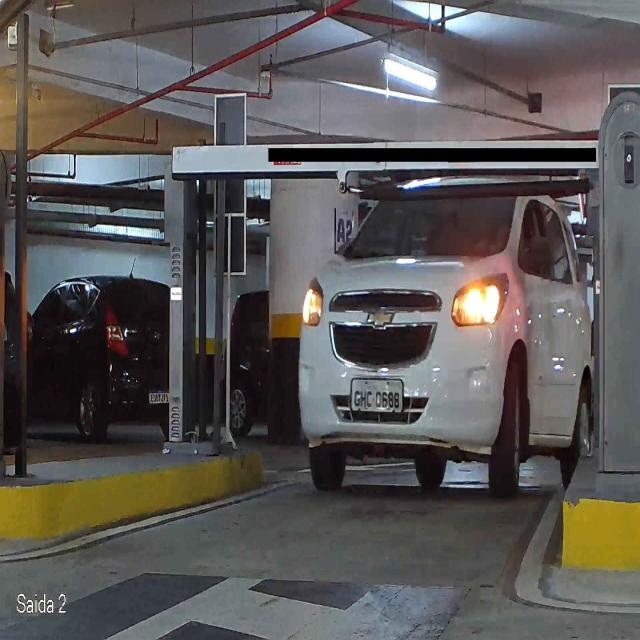old_plate: (350, 377, 404, 414)
